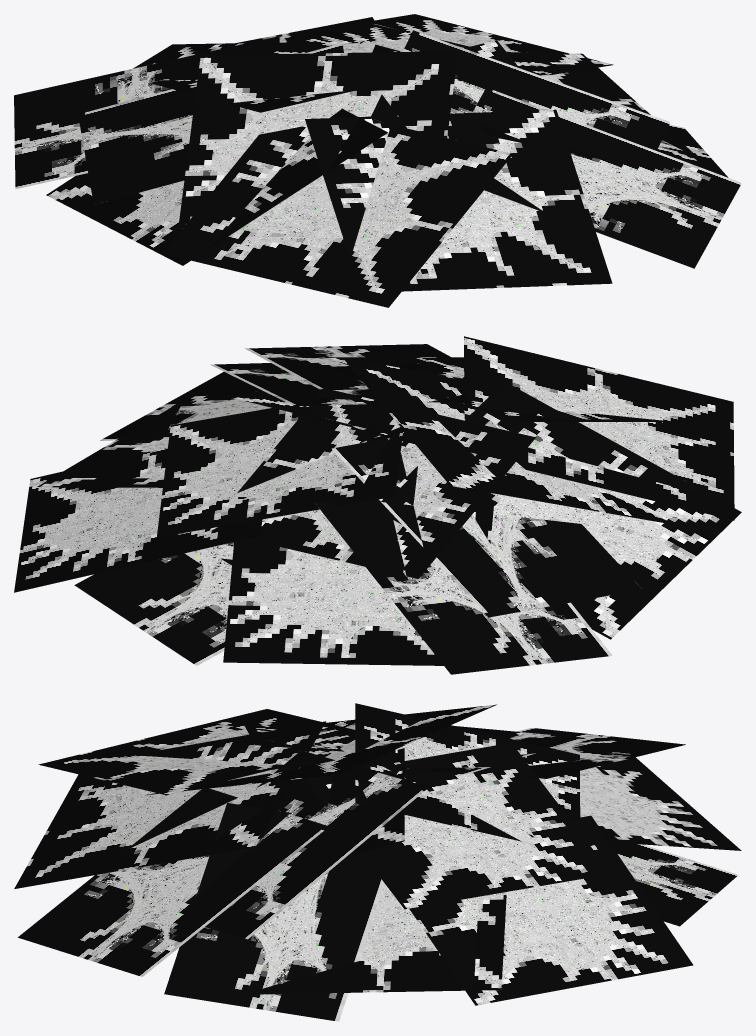
Rendered from Cobweb_Spiders-transformed.glb.
The picture shows the model from 3 angles, top to bottom: view 1: azimuth 30°, elevation 25°; view 2: azimuth 150°, elevation 25°; view 3: azimuth 270°, elevation 25°; orthographic projection. The views are drawn at different scales.
Parts seen in each view (by area): view 1: default; view 2: default; view 3: default.
Boxes of the visible parts, x1=… form: default: x1=14, y1=14, x2=741, y2=307; default: x1=14, y1=336, x2=741, y2=674; default: x1=14, y1=703, x2=741, y2=1021.
Bounding box in the file's own units: 19.82 × 4.37 × 21.4.
1 material, 1 textured.
